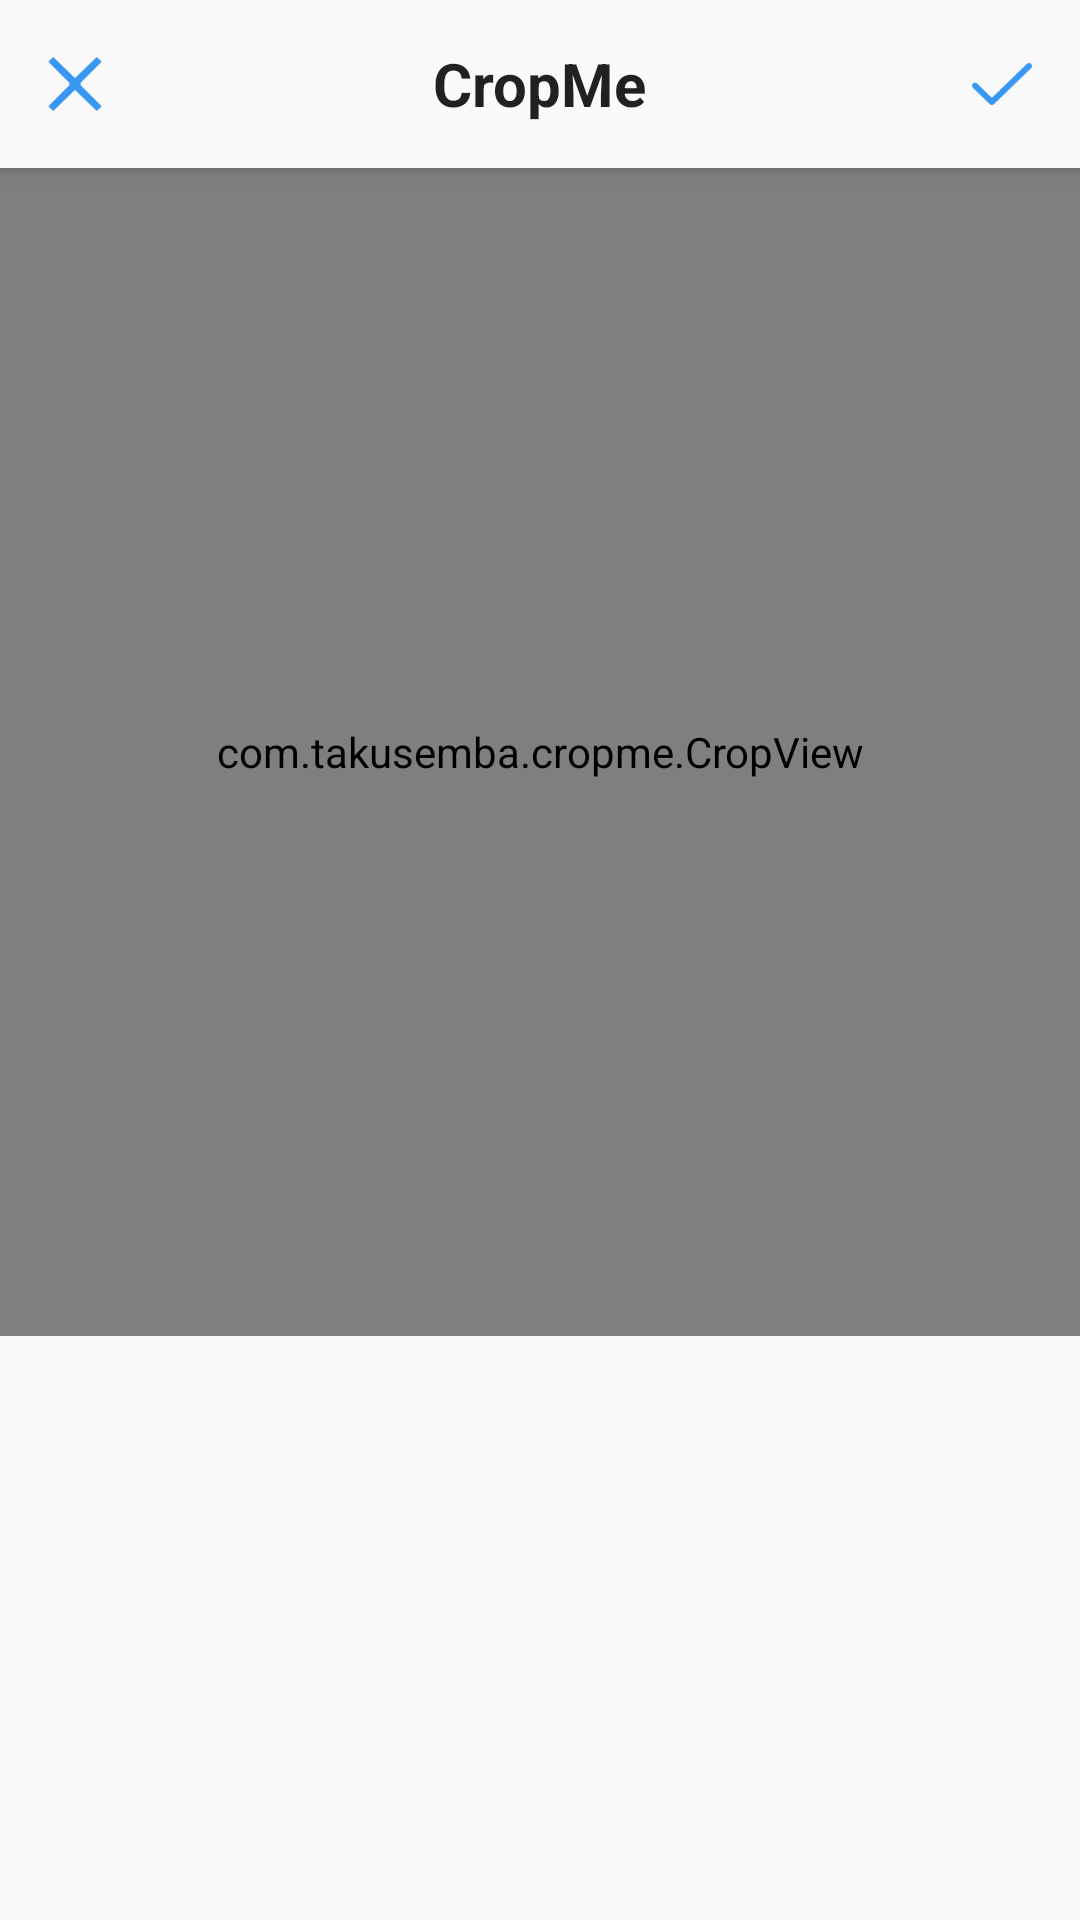

Icons on this 1080 × 1920 Android screen, each with its box as (x1, y1, x2, y2):
check: (972, 63, 1032, 105)
cross: (48, 57, 102, 111)
